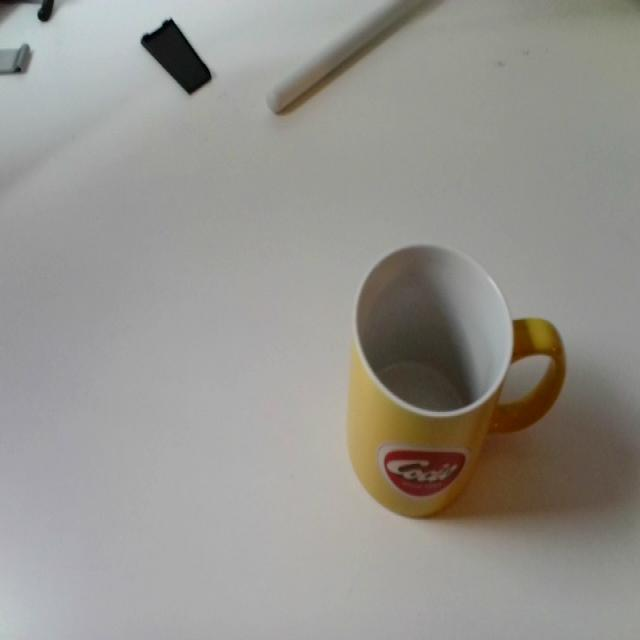Cocio Cup: (343, 246, 571, 521)
